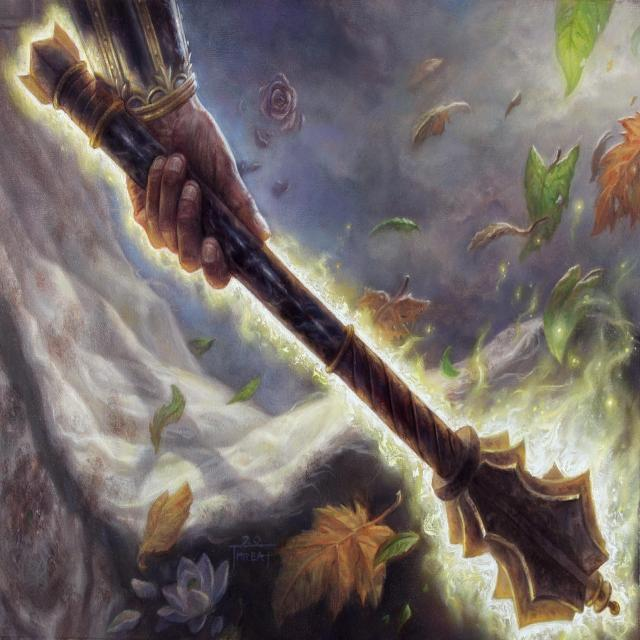mace: (40, 41, 618, 617)
